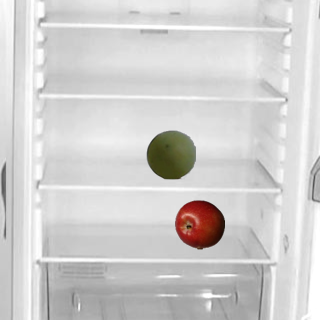Apple Braeburn: (174, 199, 224, 249)
Grape White 4: (145, 129, 195, 179)
